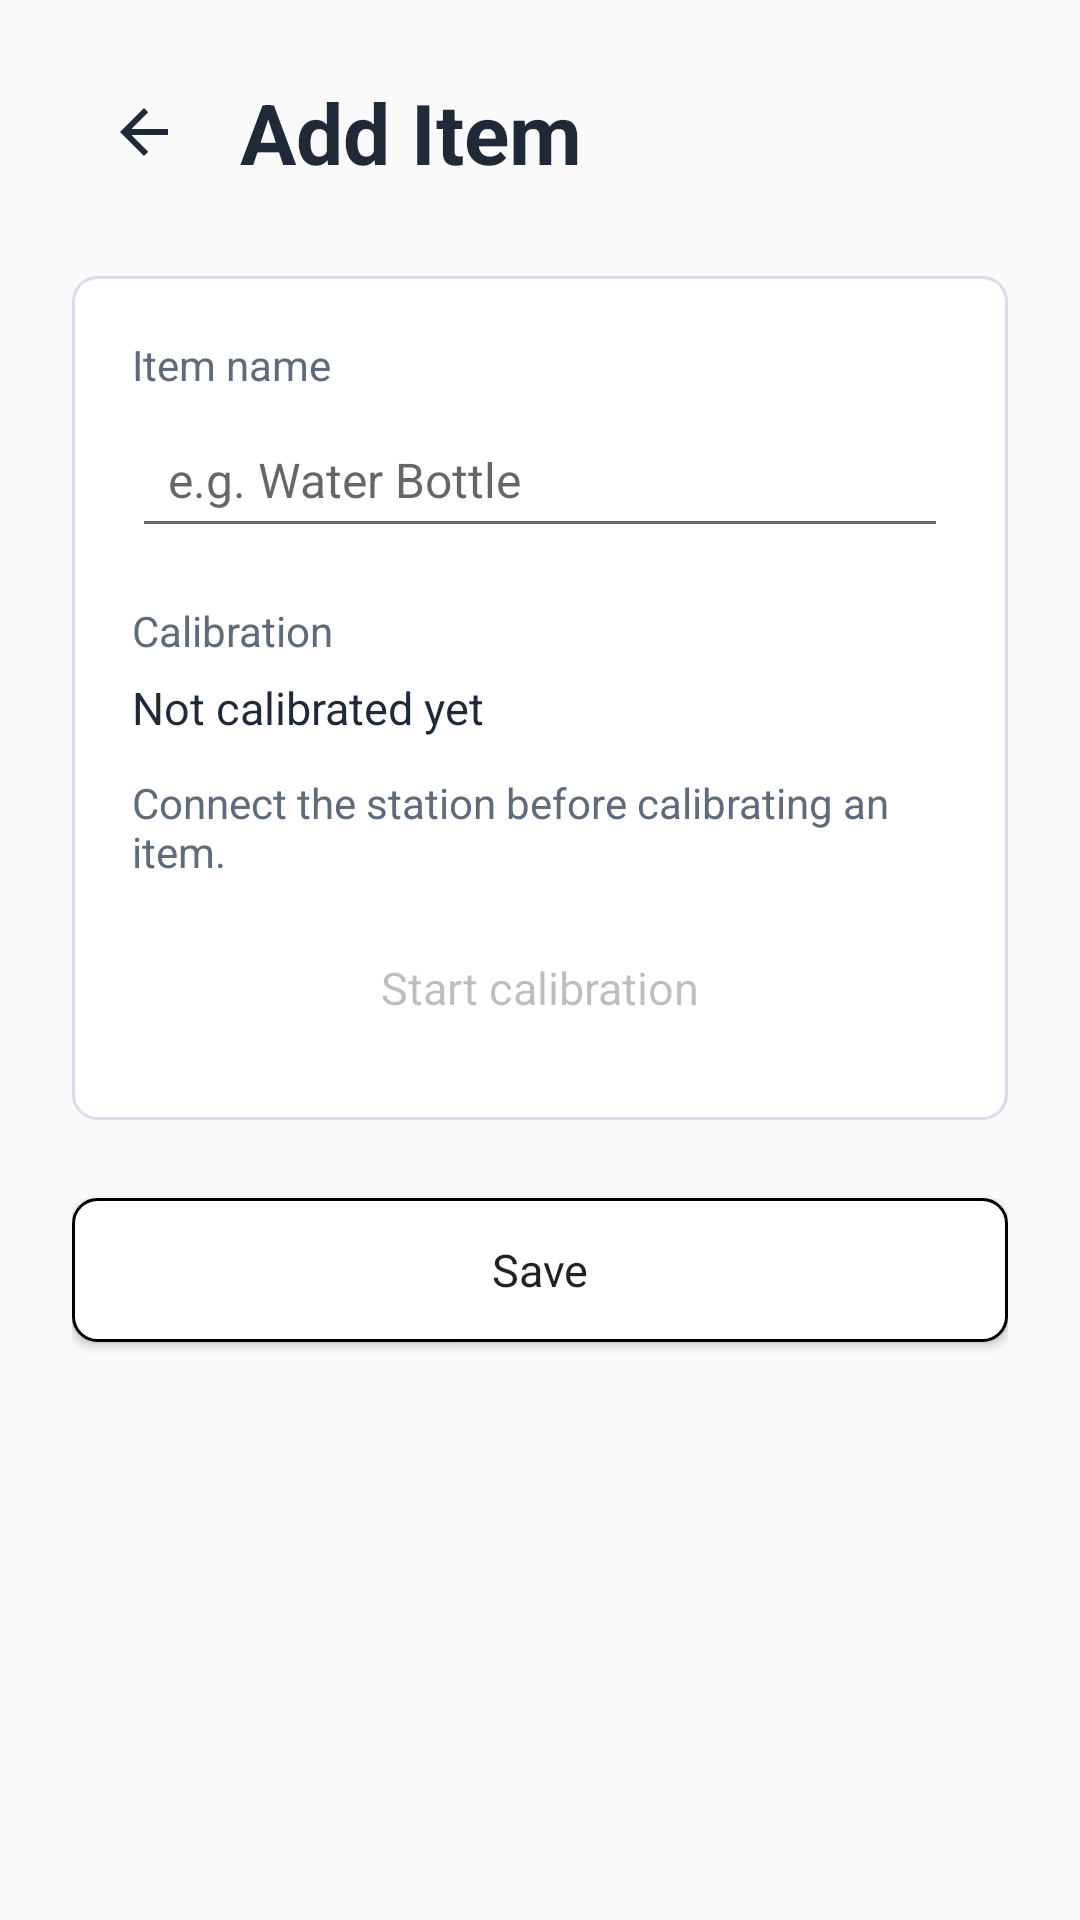

Screen size 1080 x 1920. Icon name, then its box in pixels as (left=x1, top=y1, right=x2, bottom=y2):
Back: (left=120, top=108, right=168, bottom=156)
